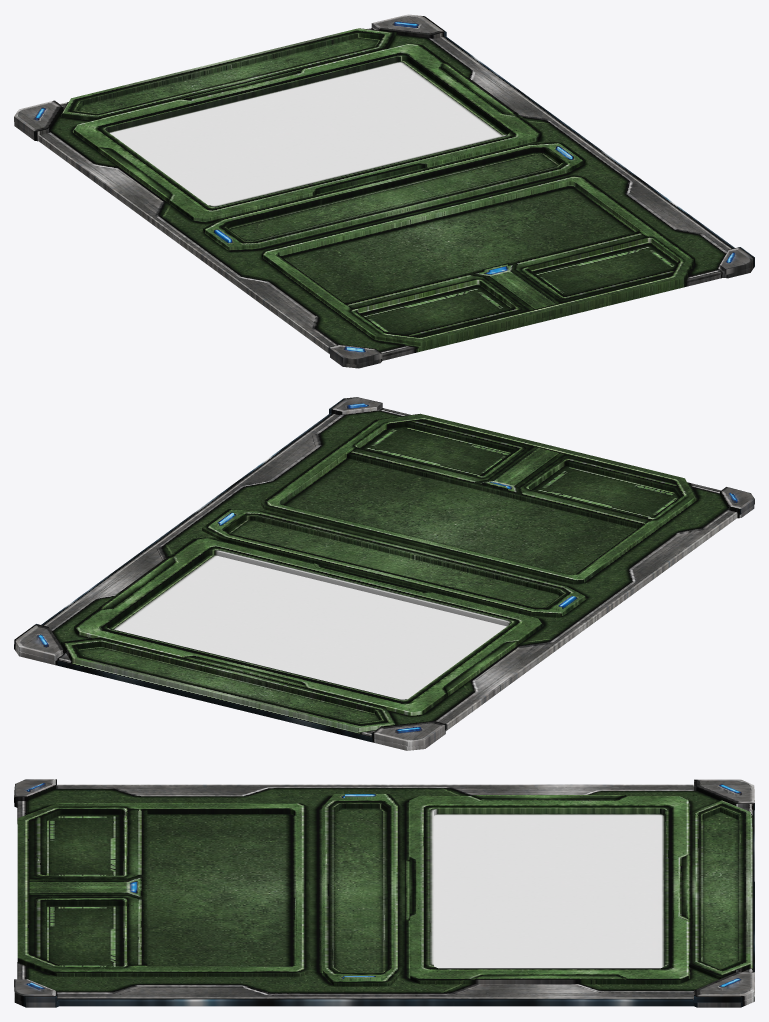
Rendered from Green.glb.
3 views of the same model, one above another, from view 1: azimuth 30°, elevation 25°; view 2: azimuth 150°, elevation 25°; view 3: azimuth 270°, elevation 25° (orthographic). The views are drawn at different scales.
Parts seen in each view (by area): view 1: Card; view 2: Card; view 3: Card.
Part boxes in pixels (left/top/right/bottom): Card: left=14, top=14, right=754, bottom=368; Card: left=14, top=397, right=754, bottom=750; Card: left=14, top=779, right=754, bottom=1007.
Size of the model in its own units: 0.0636 by 0.00166 by 0.0912.
Materials: 8 (8 with a texture image).
